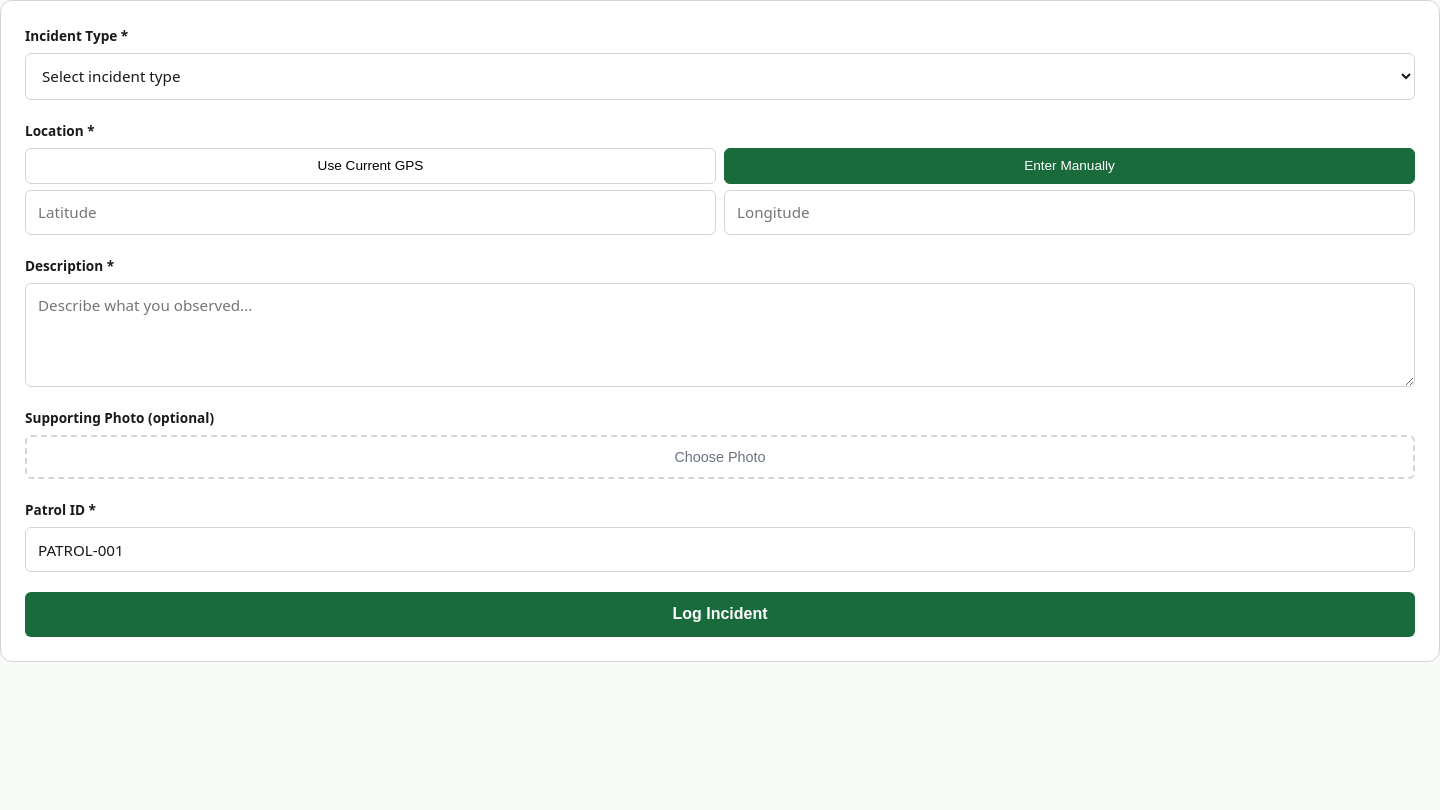
Test: IncidentForm › shows error for invalid latitude
Select "Snare" in the dropdown labelled "Incident Type *" at [720, 76], box [25,53,1415,100]
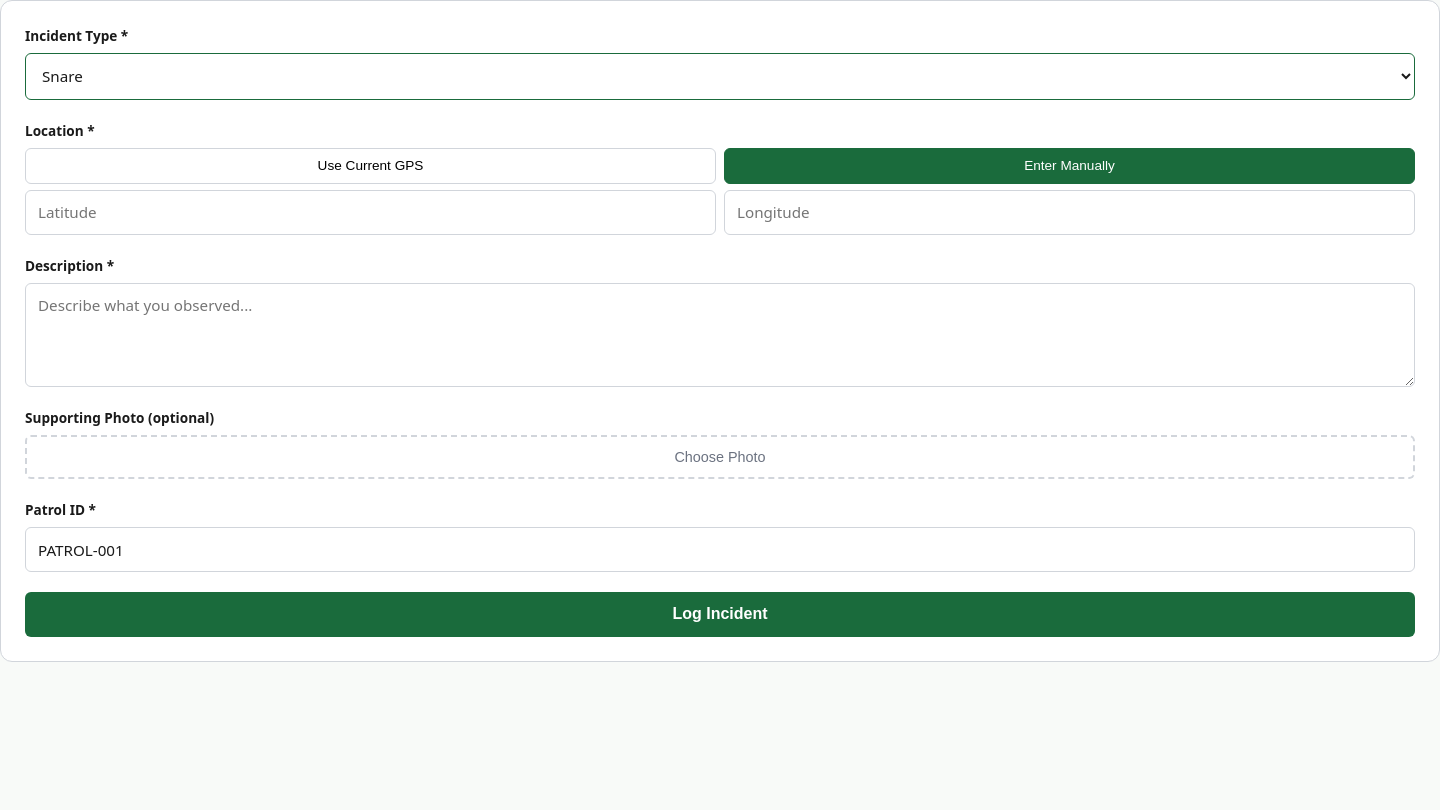
Type "999" into the number field with placeholder "Latitude" at [370, 212], box [25,190,716,235]
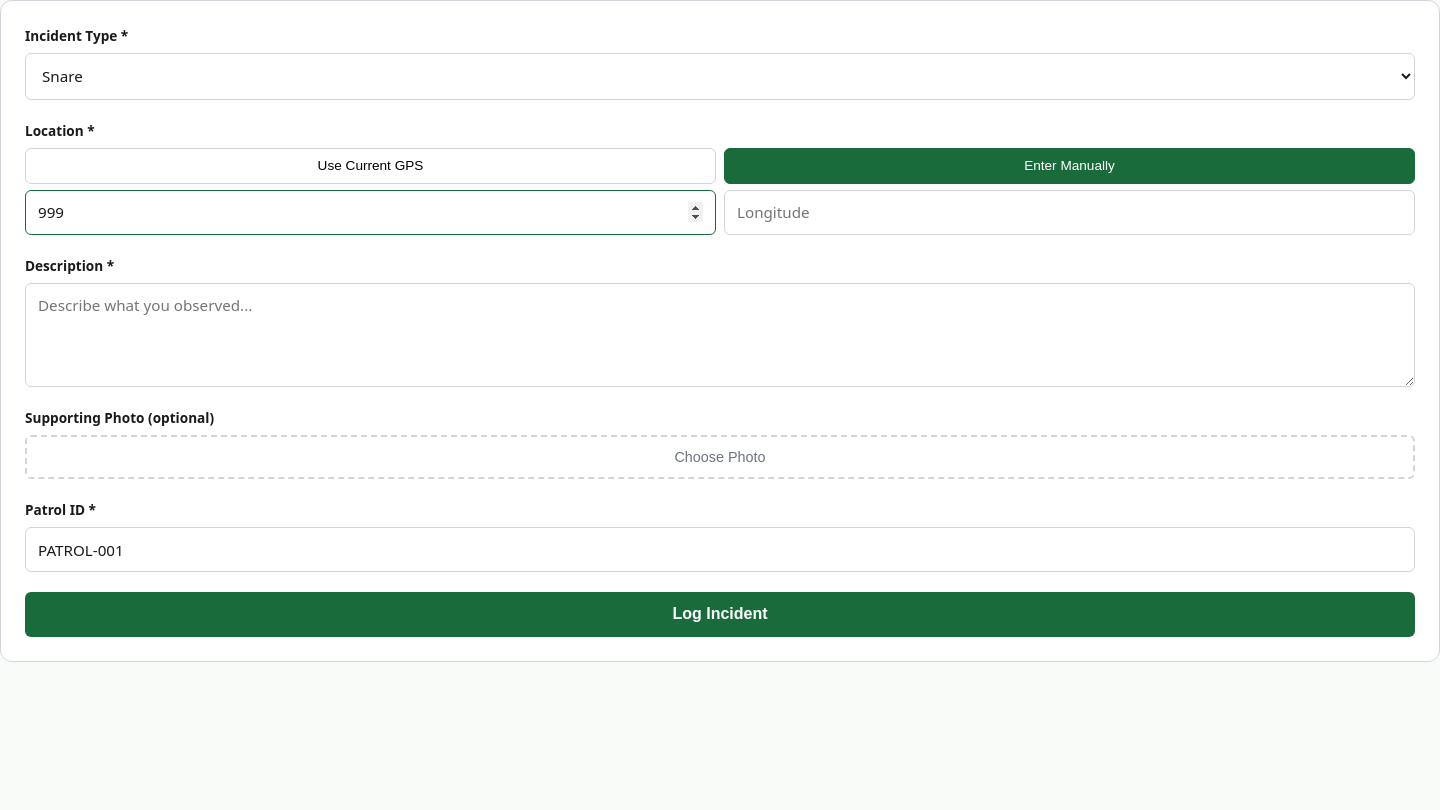
Type "34.5678" into the number field with placeholder "Longitude" at [1070, 212], box [724,190,1415,235]
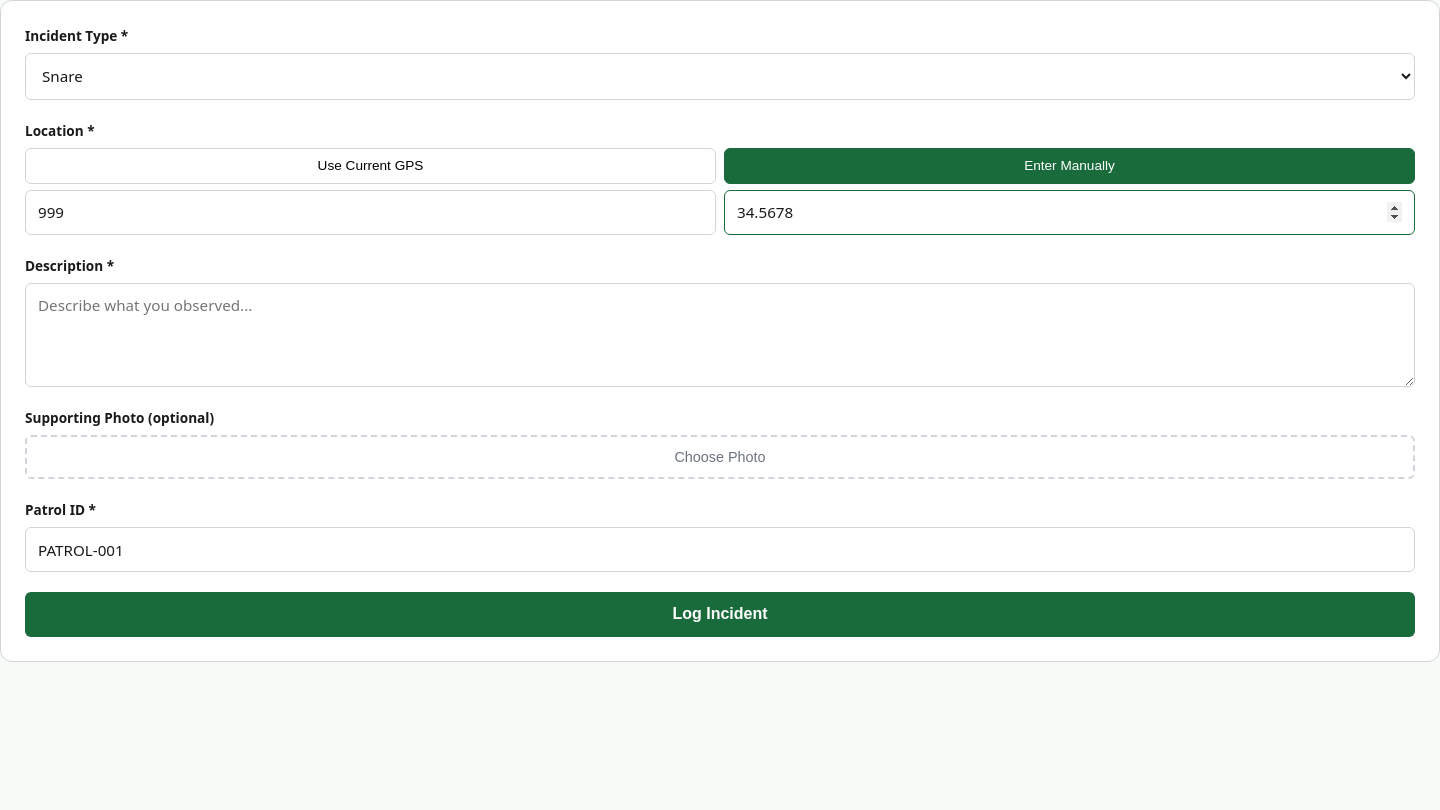
Type "Test" into the text box labelled "Description *" at [720, 335], box [25,283,1415,387]
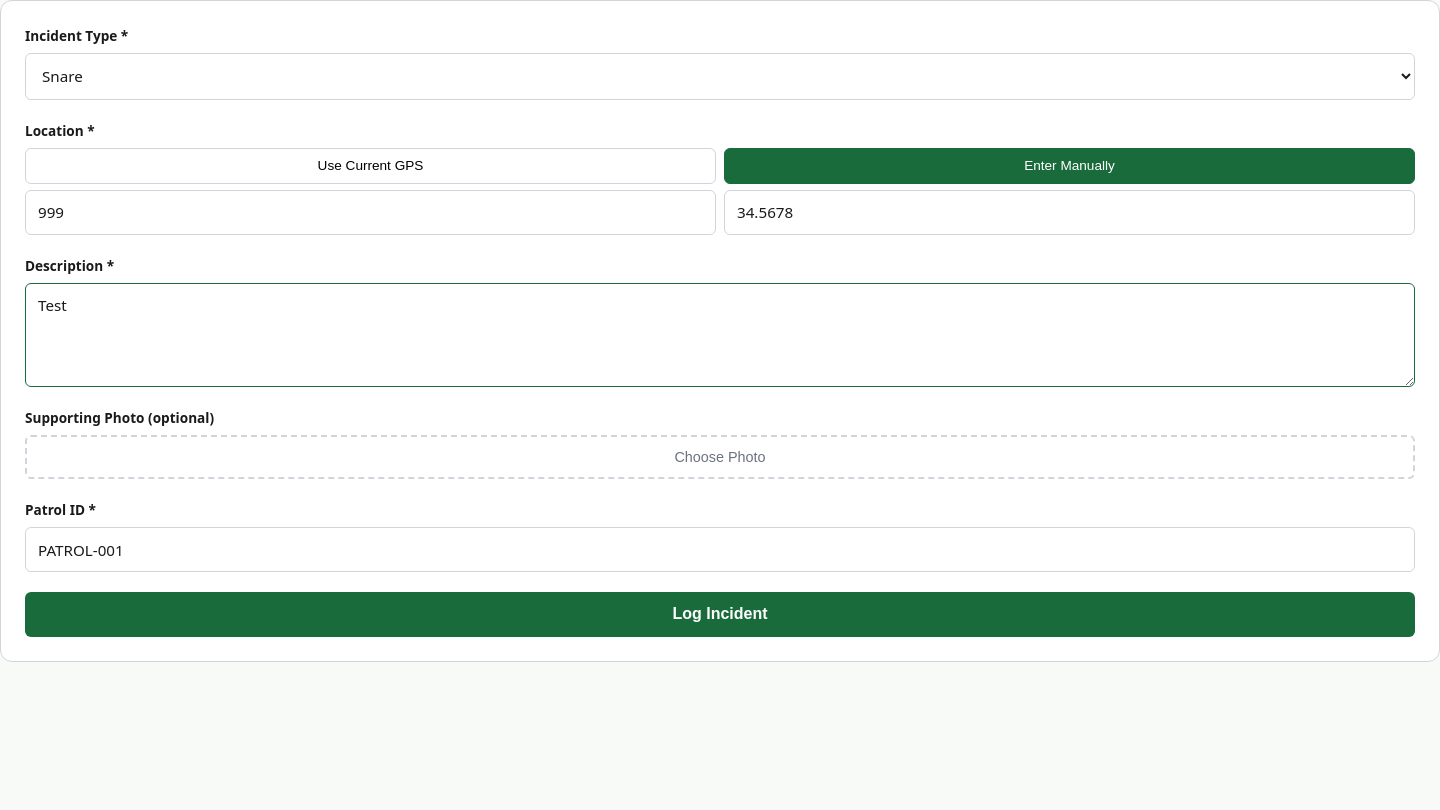
Click the button "Log Incident" at [720, 614], box [25,592,1415,637]
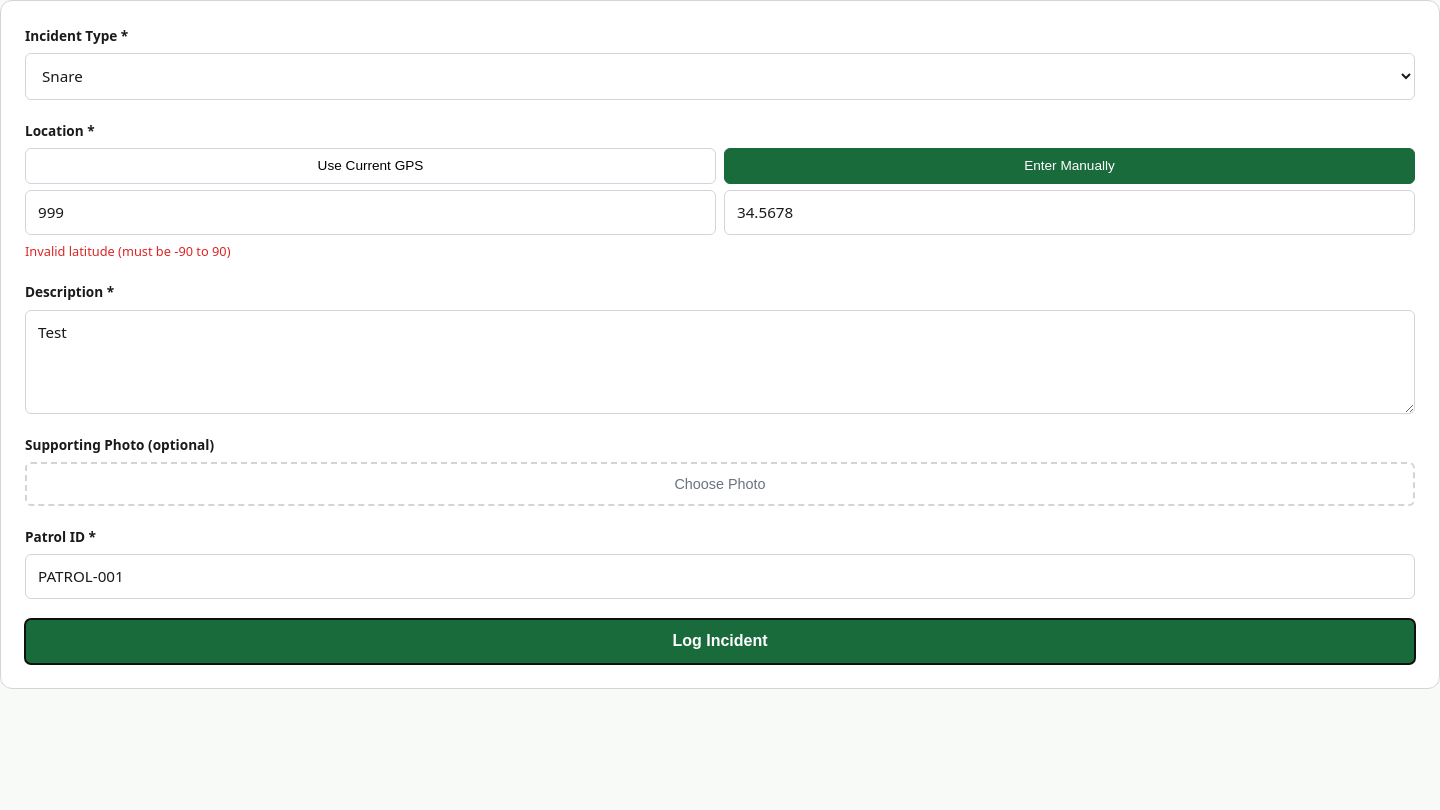
Result: the text "Invalid latitude (must be -90 to 90)" is shown at [25,242,230,260]
